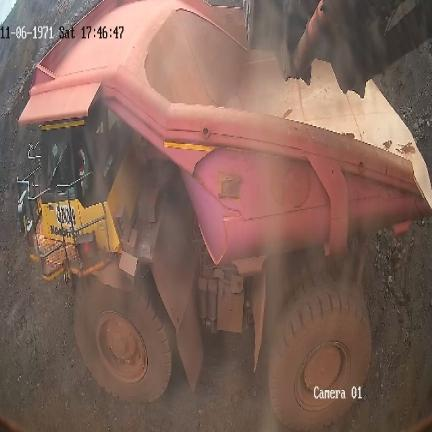pile: (368, 219, 430, 389)
